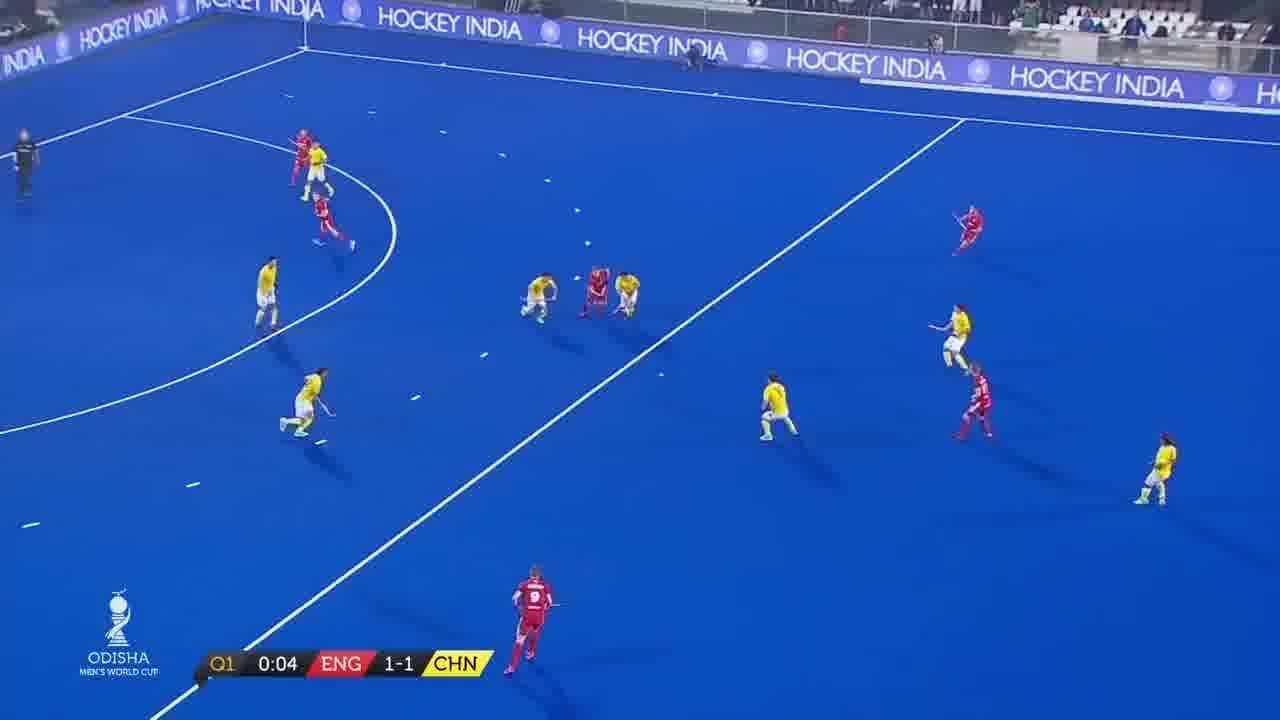ball: (658, 370, 668, 378)
